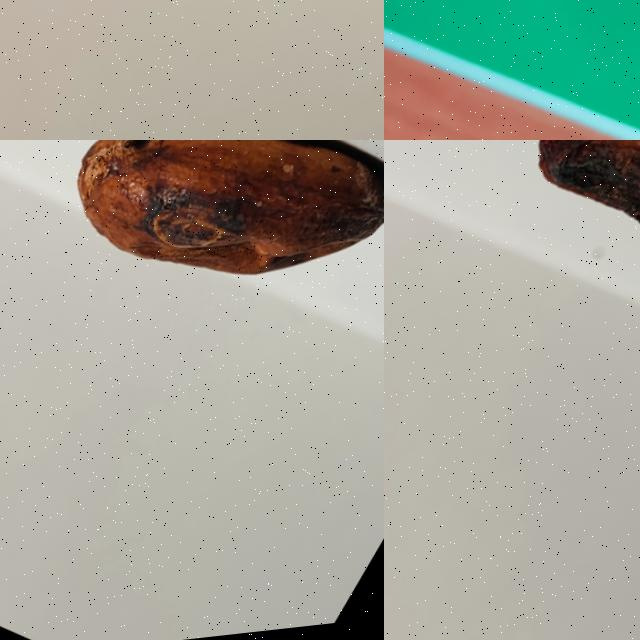Agglomerated_cocoabeans: (384, 0, 639, 139)
Fine_cocoabeans: (0, 140, 383, 437)
Flat_cocoabeans: (462, 140, 639, 353)
